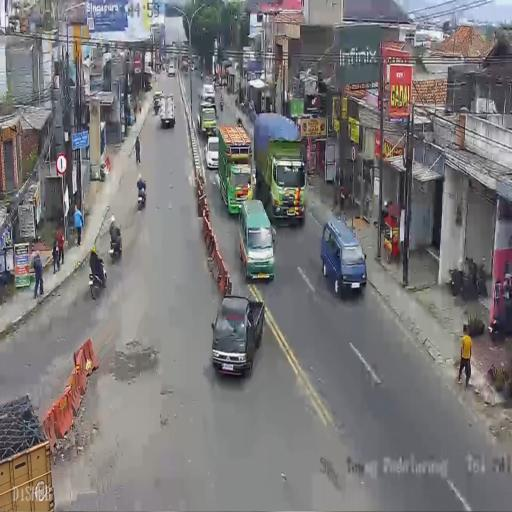car: (211, 295, 265, 376), (319, 215, 368, 296), (239, 198, 276, 278), (198, 102, 217, 137), (204, 135, 219, 170), (198, 81, 214, 104), (168, 62, 175, 76), (190, 64, 194, 72)
motorcycle: (89, 259, 108, 300), (136, 184, 146, 209), (220, 94, 224, 111), (213, 77, 216, 90), (154, 70, 157, 81), (200, 70, 203, 80)
truck: (255, 124, 306, 224), (218, 124, 254, 215), (181, 58, 188, 72)
